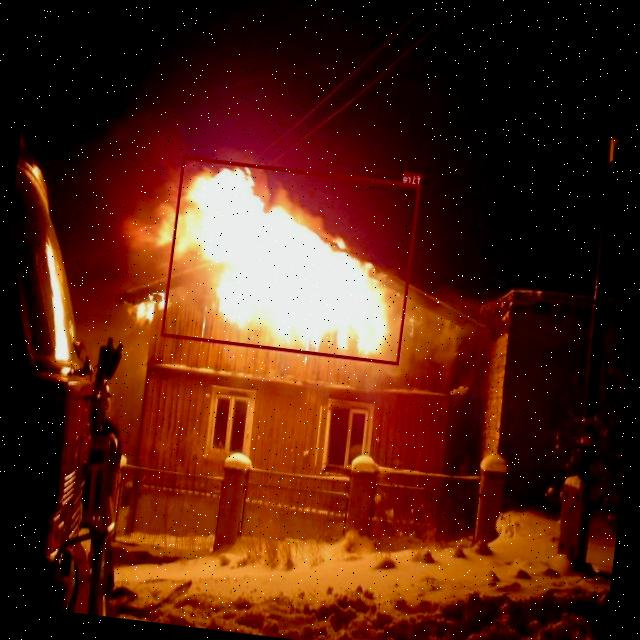fire: (161, 156, 420, 364)
